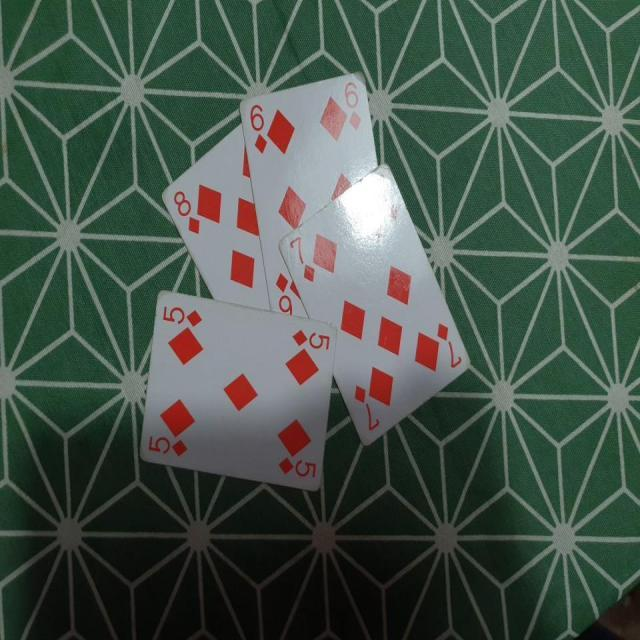5 of diamonds: (136, 288, 336, 493)
6 of diamonds: (238, 69, 380, 314)
7 of diamonds: (277, 162, 471, 448)
8 of diamonds: (162, 125, 272, 312)
